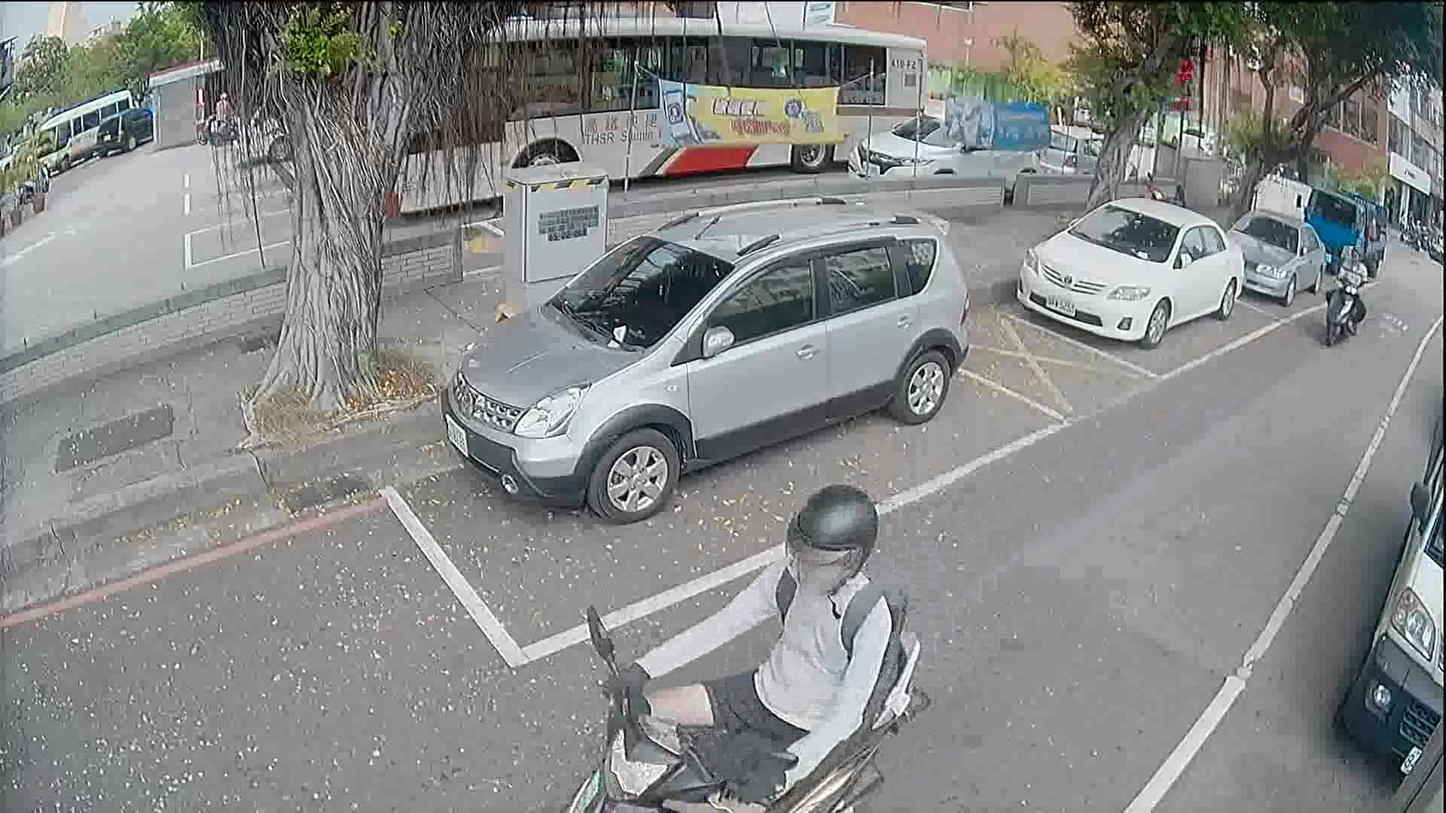person: (594, 478, 898, 812), (1326, 245, 1368, 336), (208, 85, 232, 143)
